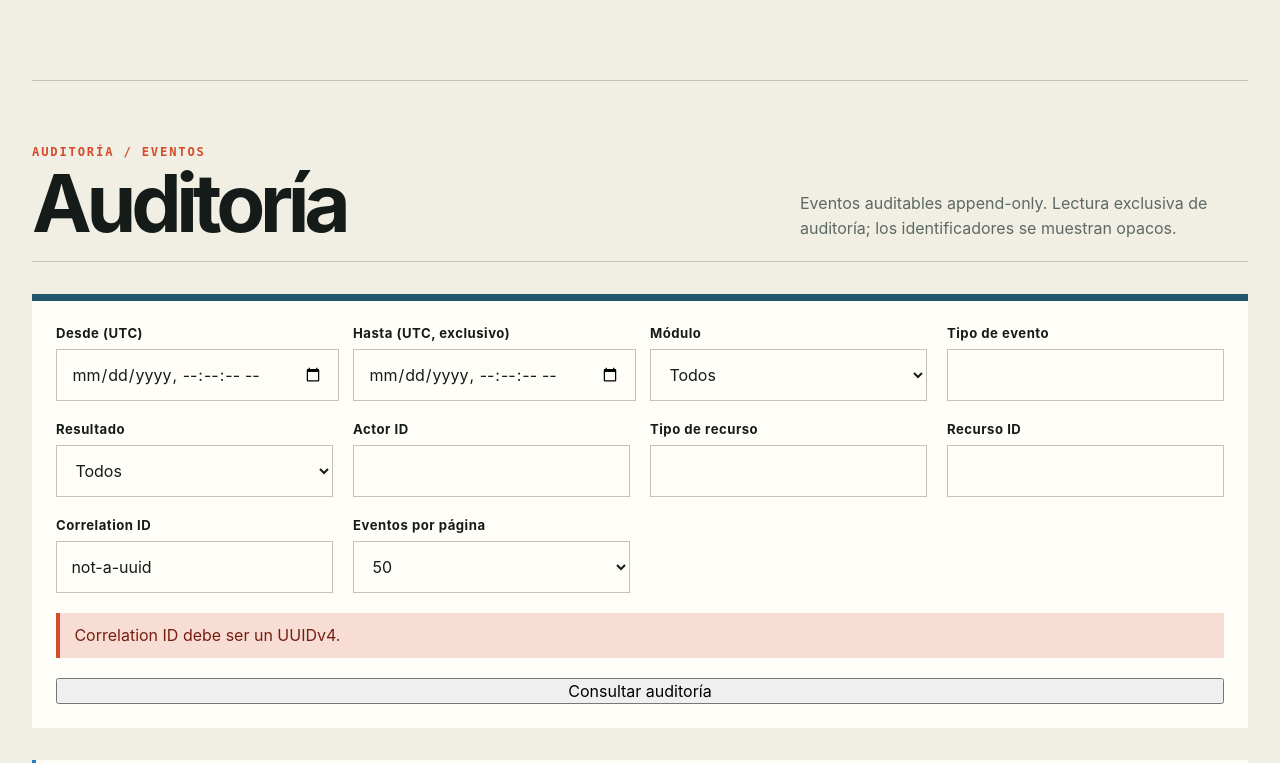
Test: AuditWorkspace › validates filters locally without querying
The width and height of the screenshot is (1280, 763).
Earlier steps of the test are not shown.
Expected: the message shows "Correlation ID debe ser un UUIDv4", left=74, top=625, right=340, bottom=645
Clear the field labelled "Correlation ID" at (194, 567), box left=56, top=541, right=333, bottom=593
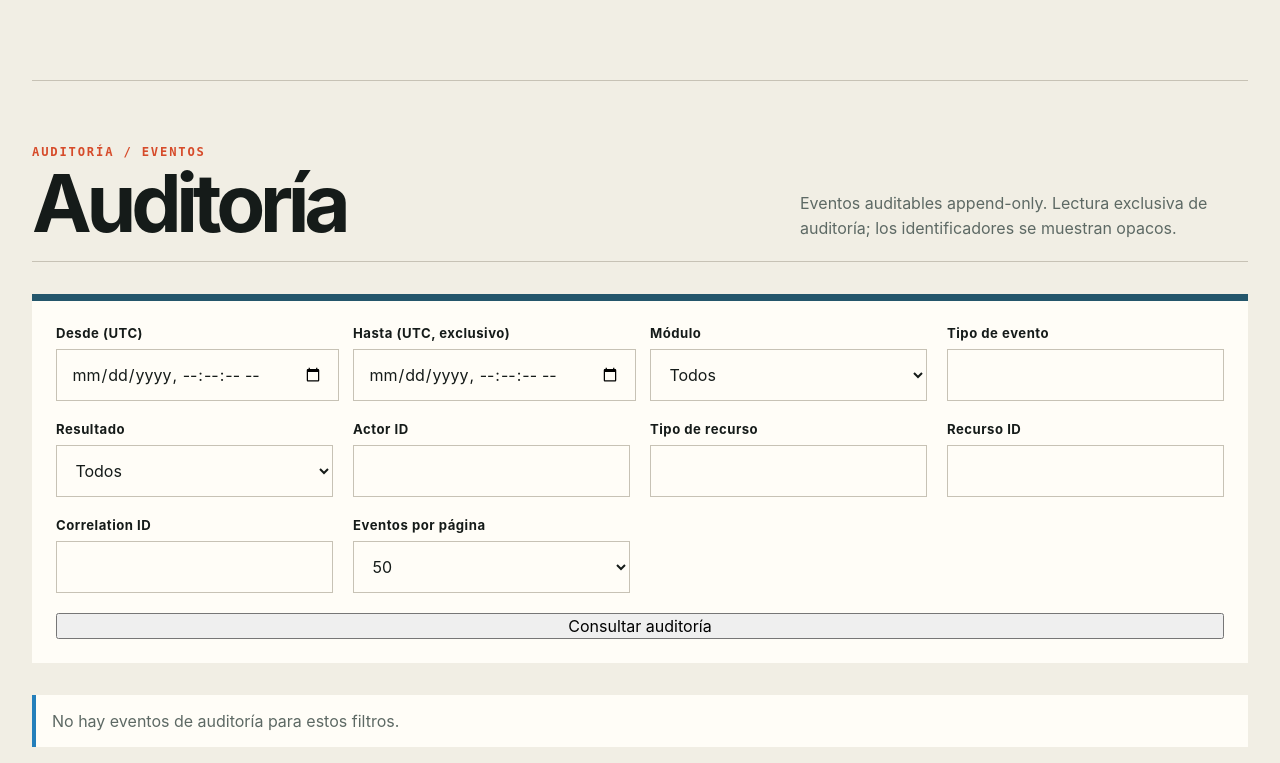
Type "lower" into the field labelled "Tipo de evento" at (1086, 375), box left=947, top=349, right=1224, bottom=401
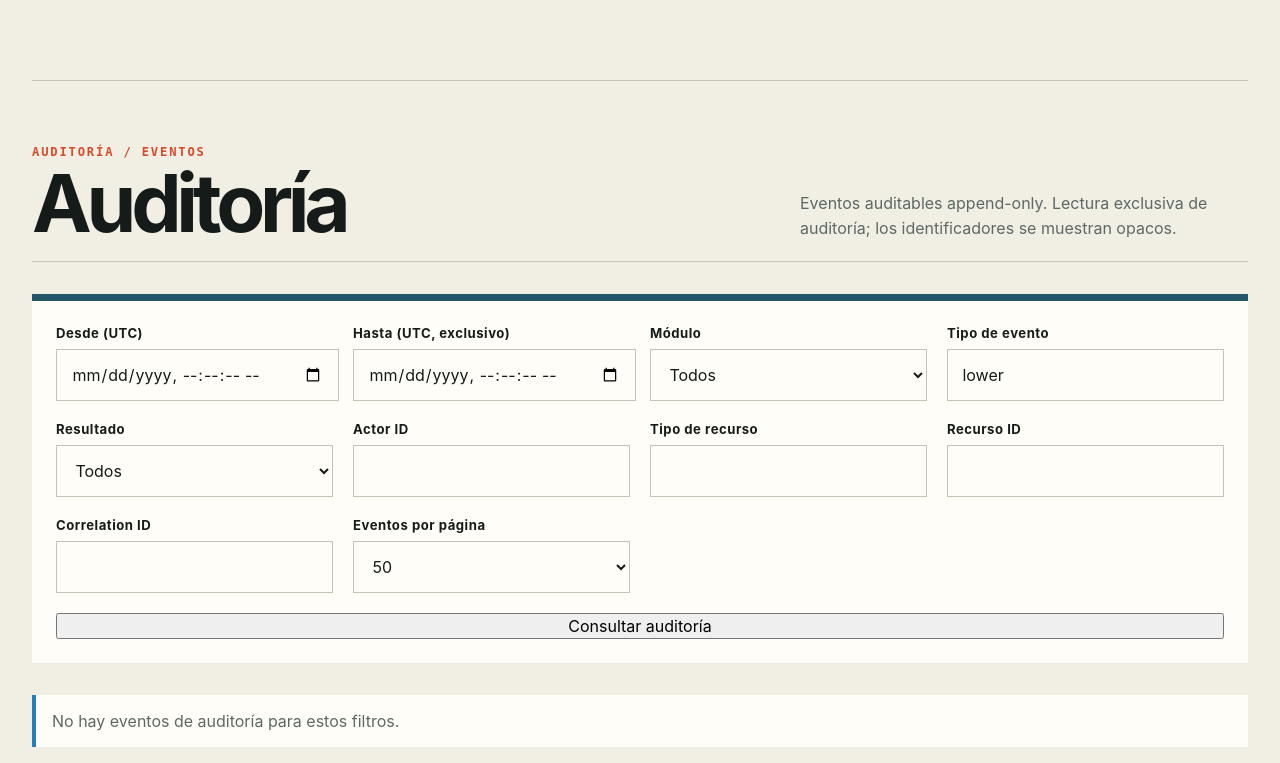
Submit the form named "Filtros de auditoría", box left=32, top=294, right=1248, bottom=663
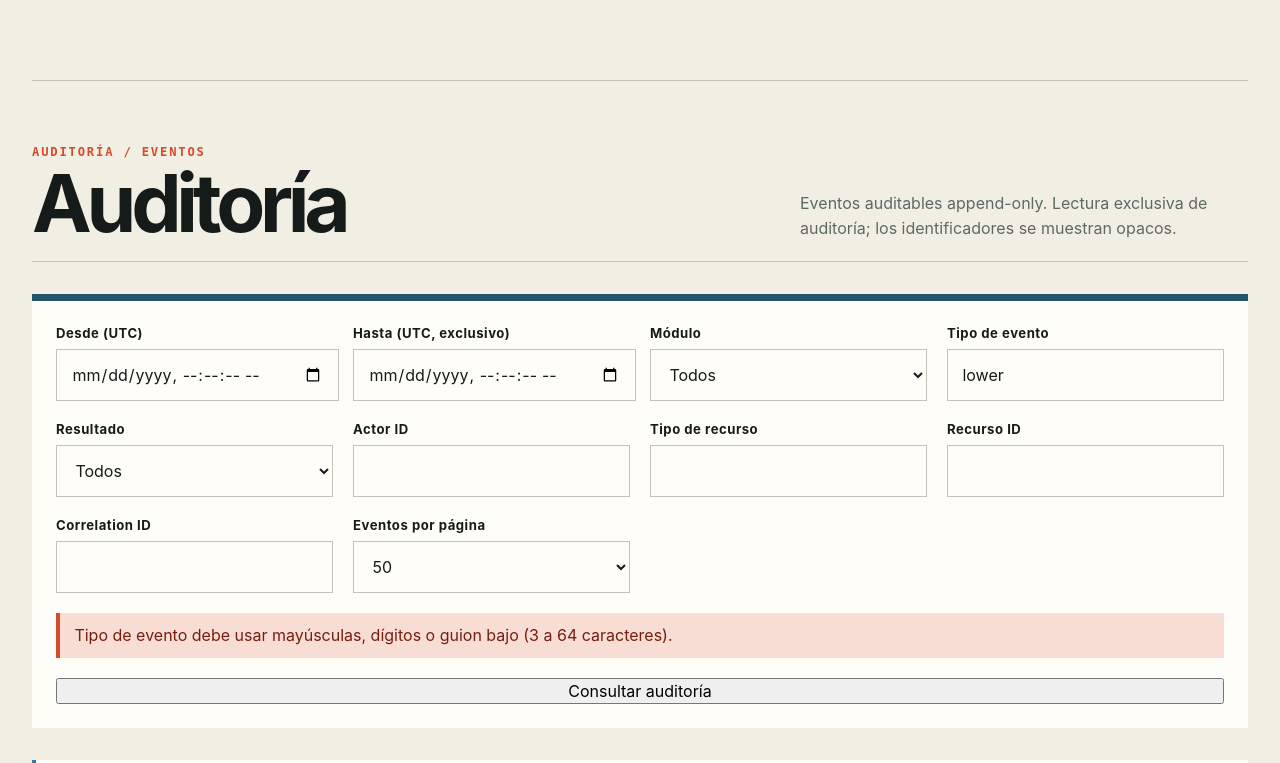
Expected: the message shows "Tipo de evento", left=74, top=625, right=673, bottom=645
Clear the field labelled "Tipo de evento" at (1086, 375), box left=947, top=349, right=1224, bottom=401
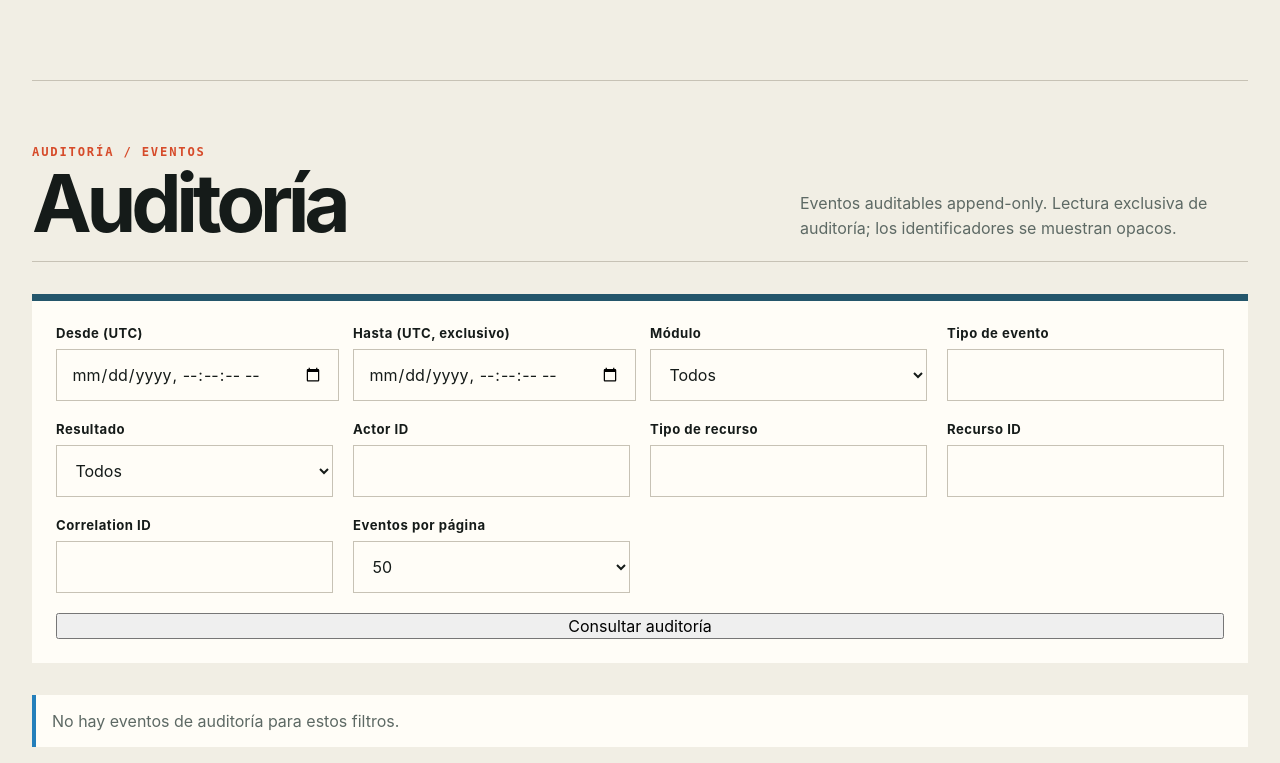
Type "2026-11-26T12:00" into the field labelled "Desde (UTC)" at (197, 375), box left=56, top=349, right=339, bottom=401
Type "2026-11-26T11:00" into the field labelled "Hasta (UTC, exclusivo)" at (494, 375), box left=353, top=349, right=636, bottom=401
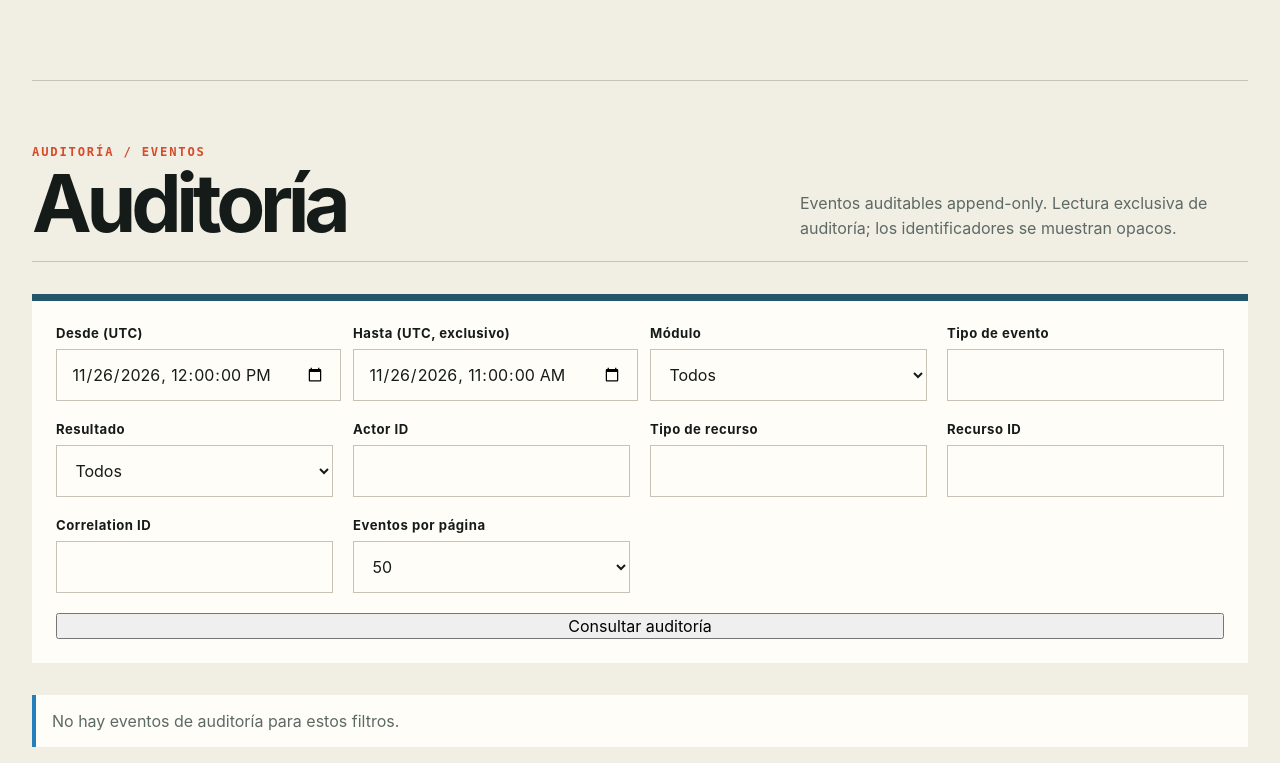
Submit the form named "Filtros de auditoría", box left=32, top=294, right=1248, bottom=663
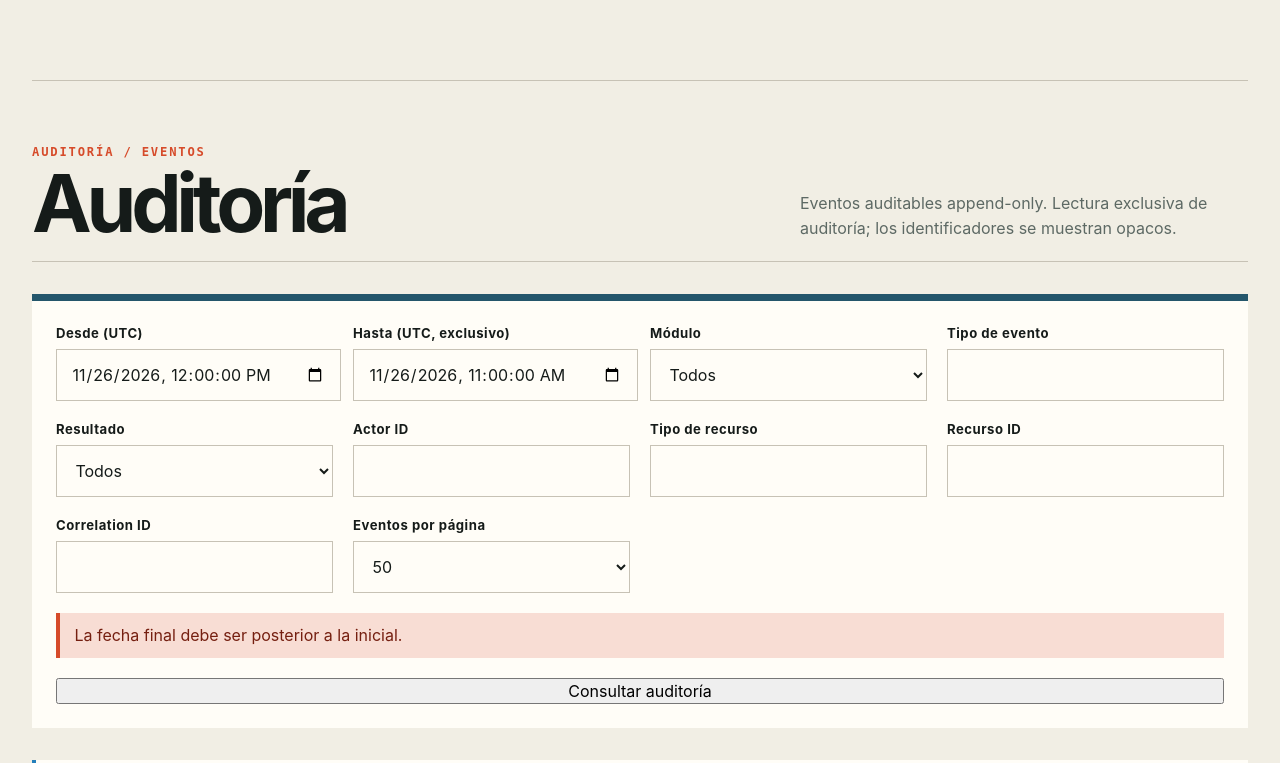
Expected: the message shows "posterior", left=74, top=625, right=402, bottom=645
